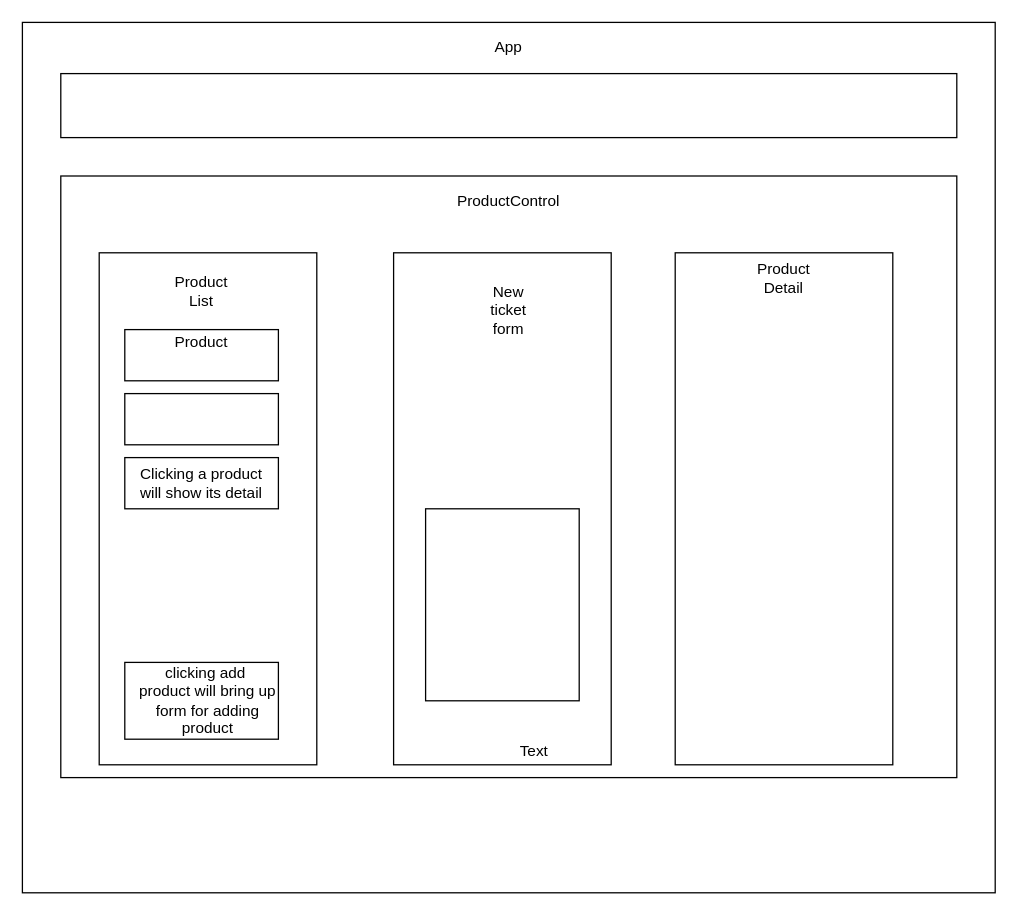
Some shapes in this 1018 by 915 pixel diagram are drawn without their labels. The shapes that lost their labels are listed below. From the top down, each one's centre as x and y in pixels, then its label:
At point (508, 105): "Header".
At point (501, 604): "clicking submit adds the prouct and switches view back to product list".
